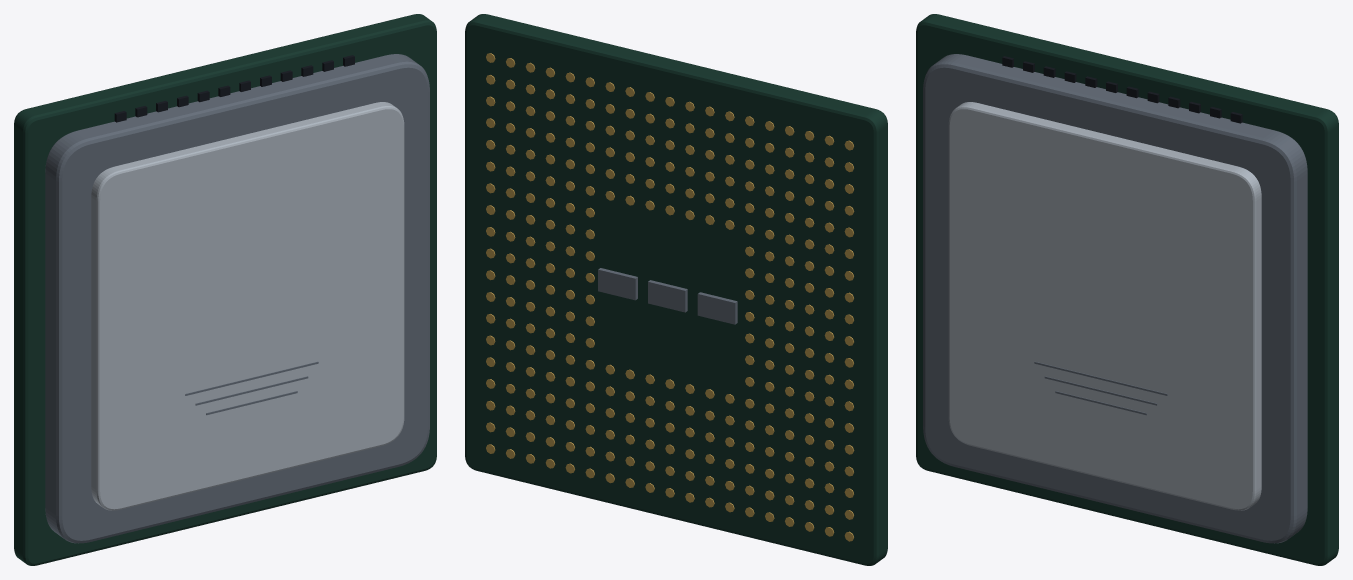
File: nexrig-cpu.glb
3 renders of one model, left to right at view 1: azimuth 30°, elevation 25°; view 2: azimuth 150°, elevation 25°; view 3: azimuth 330°, elevation 25°, orthographic.
Visible parts, largest first — view 1: Original generic CPU; view 2: Original generic CPU; view 3: Original generic CPU.
Part boxes in pixels (x1,y1,x2,y2): Original generic CPU: (14, 14, 436, 565); Original generic CPU: (465, 14, 887, 565); Original generic CPU: (916, 14, 1338, 565).
Size of the model in its own units: 0.4979 by 0.5179 by 0.076.
